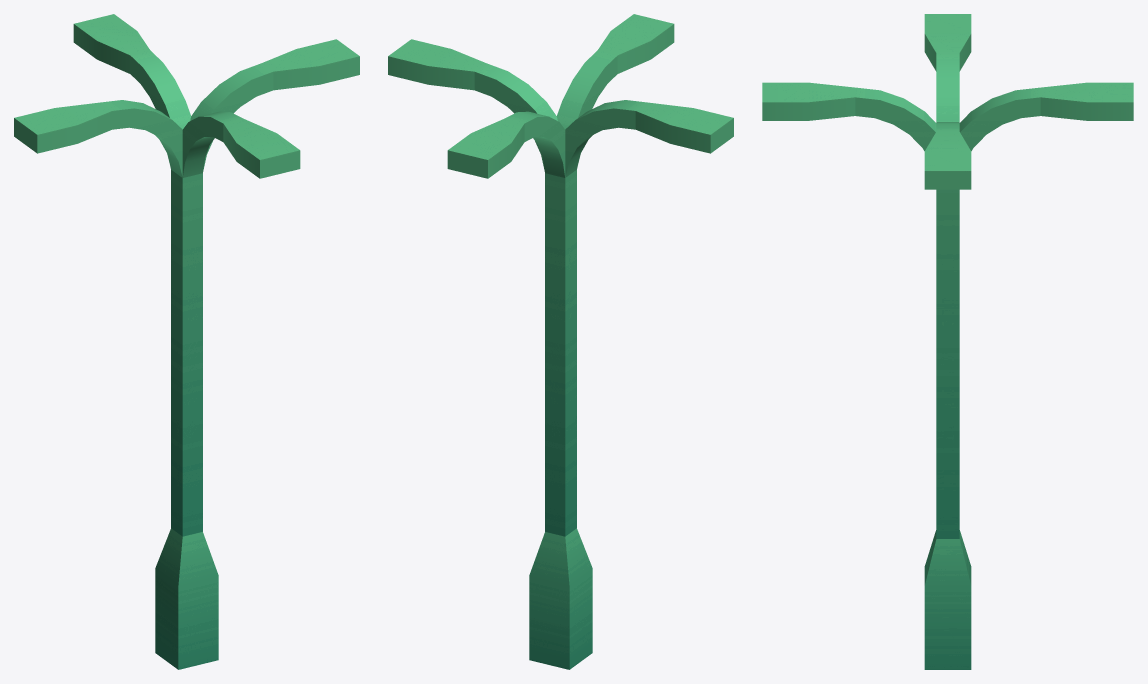
The model's file is light_curved_cross.glb.
3 views of the same model, side by side, from view 1: azimuth 30°, elevation 25°; view 2: azimuth 150°, elevation 25°; view 3: azimuth 270°, elevation 25° (orthographic).
Parts seen in each view (by area): view 1: light-curved-cross; view 2: light-curved-cross; view 3: light-curved-cross.
Boxes of the visible parts, x1,y1,x2,y2 form: light-curved-cross: (14,14,359,669); light-curved-cross: (388,14,733,669); light-curved-cross: (762,14,1133,669).
Bounding box in the file's own units: 0.4 × 0.675 × 0.4.
1 material, 1 textured.
